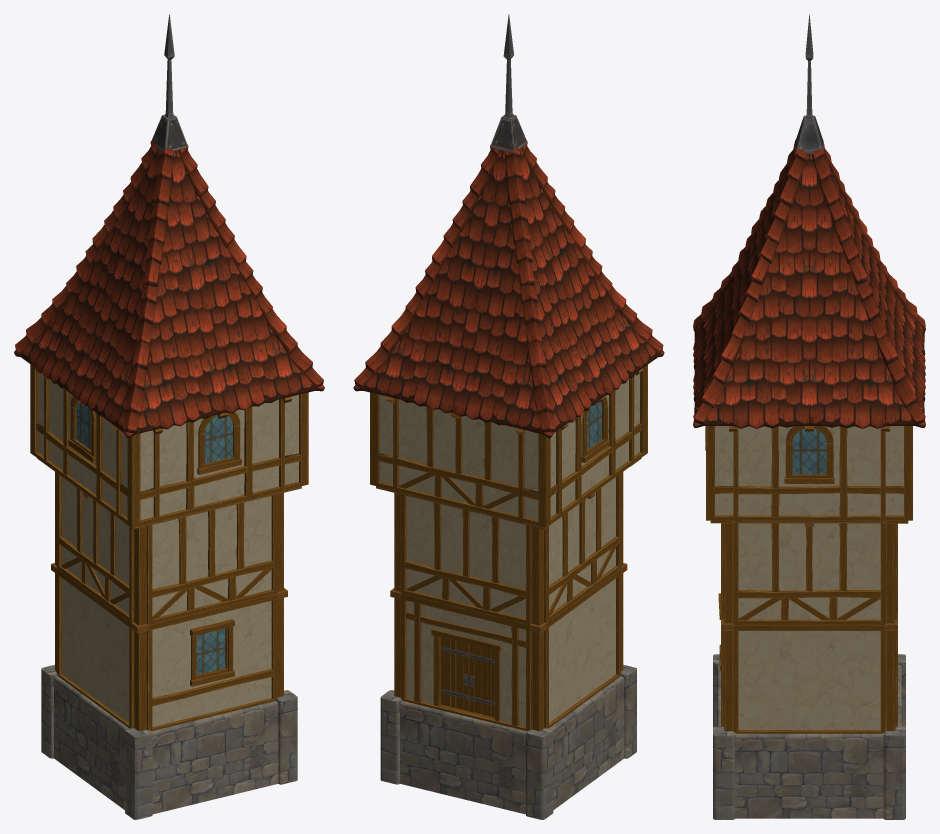
Rendered from tower_(2).gltf.
3 views of the same model, side by side, from view 1: azimuth 30°, elevation 25°; view 2: azimuth 150°, elevation 25°; view 3: azimuth 270°, elevation 25° (orthographic).
Visible parts, largest first — view 1: SM_House_Roof_01_Corner_Outer_Standard (×3), SM_House_Foundation_5x4_Corner (×3), SM_House_Wall_5x4_A_03 (×2), SM_House_Wall_5x4_Window_C_01 (×2), SM_House_Wall_5x4_Window_A_02, SM_House_Wall_5x4_A_02, SM_House_Corner_02 (×3), SM_House_Corner_01 (×4), SM_House_Window_C (×2), SM_RoofSpike, SM_House_Window_A; view 2: SM_House_Roof_01_Corner_Outer_Standard (×3), SM_House_Wall_5x4_A_03 (×3), SM_House_Foundation_5x4_Corner (×3), SM_House_Wall_5x4_Door_C_01, SM_House_Wall_5x4_A_02, SM_House_Corner_02 (×3), SM_House_Wall_5x4_Window_C_01, SM_House_Corner_01 (×4), SM_Door_C (×2), SM_RoofSpike, SM_House_Window_C; view 3: SM_House_Roof_01_Corner_Outer_Standard (×4), SM_House_Foundation_5x4_Corner (×3), SM_House_Wall_5x4_A_02, SM_House_Wall_5x4_A_03, SM_House_Wall_5x4_Window_C_01, SM_House_Corner_02 (×2), SM_House_Corner_01 (×4), SM_House_Window_C, SM_RoofSpike, SM_House_Floor_5x4_Overang_Beam.
Part boxes in pixels (x1,y1,x2,y2): SM_House_Roof_01_Corner_Outer_Standard (×3): (14,139,324,437); SM_House_Foundation_5x4_Corner (×3): (41,665,297,819); SM_House_Wall_5x4_A_03 (×2): (56,473,277,624); SM_House_Wall_5x4_Window_C_01 (×2): (44,377,284,521); SM_House_Wall_5x4_Window_A_02: (146,593,277,731); SM_House_Wall_5x4_A_02: (56,568,134,728); SM_House_Corner_02 (×3): (30,364,308,527); SM_House_Corner_01 (×4): (131,493,287,731); SM_House_Window_C (×2): (73,400,235,467); SM_RoofSpike: (152,14,188,153); SM_House_Window_A: (196,628,228,678); SM_House_Roof_01_Corner_Outer_Standard (×3): (353,141,664,438); SM_House_Wall_5x4_A_03 (×3): (393,398,621,624); SM_House_Foundation_5x4_Corner (×3): (380,664,636,819); SM_House_Wall_5x4_Door_C_01: (400,593,531,730); SM_House_Wall_5x4_A_02: (544,569,621,728); SM_House_Corner_02 (×3): (370,364,647,527); SM_House_Wall_5x4_Window_C_01: (556,376,634,517); SM_House_Corner_01 (×4): (390,493,546,731); SM_Door_C (×2): (441,637,494,717); SM_RoofSpike: (490,14,527,153); SM_House_Window_C: (586,400,605,454); SM_House_Roof_01_Corner_Outer_Standard (×4): (693,139,925,431); SM_House_Foundation_5x4_Corner (×3): (713,654,905,819); SM_House_Wall_5x4_A_02: (733,624,885,733); SM_House_Wall_5x4_A_03: (733,523,885,624); SM_House_Wall_5x4_Window_C_01: (733,426,885,520); SM_House_Corner_02 (×2): (706,426,912,520); SM_House_Corner_01 (×4): (721,523,897,730); SM_House_Window_C: (790,426,828,477); SM_RoofSpike: (795,14,823,153); SM_House_Floor_5x4_Overang_Beam: (733,520,885,526).
Size of the model in its own units: 7.65 by 27.72 by 7.65.
9 materials, 9 textured.
